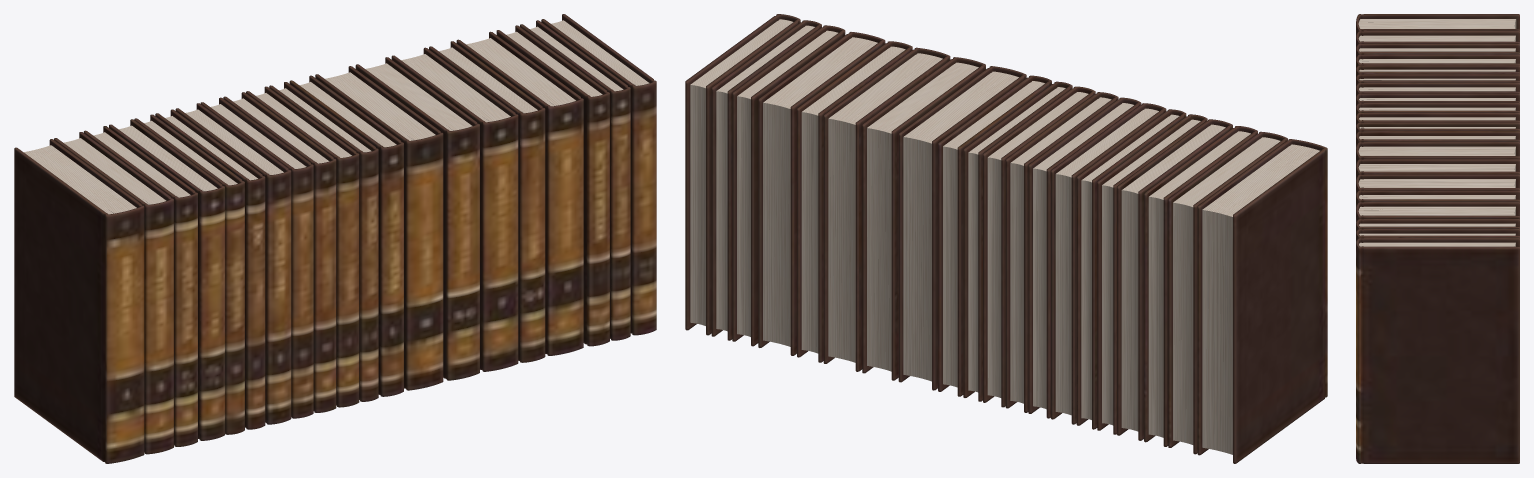
File: book_encyclopedia_set_01_lite.gltf
The picture shows the model from 3 angles, left to right: view 1: azimuth 30°, elevation 25°; view 2: azimuth 150°, elevation 25°; view 3: azimuth 270°, elevation 25°; orthographic projection. The views are drawn at different scales.
Parts seen in each view (by area): view 1: book_encyclopedia_set_01_book01, book_encyclopedia_set_01_book13, book_encyclopedia_set_01_book15, book_encyclopedia_set_01_book17, book_encyclopedia_set_01_book14, book_encyclopedia_set_01_book02, book_encyclopedia_set_01_book16, book_encyclopedia_set_01_book04, book_encyclopedia_set_01_book18, book_encyclopedia_set_01_book20, book_encyclopedia_set_01_book07, book_encyclopedia_set_01_book12 (+8 smaller); view 2: book_encyclopedia_set_01_book01, book_encyclopedia_set_01_book13, book_encyclopedia_set_01_book15, book_encyclopedia_set_01_book17, book_encyclopedia_set_01_book14, book_encyclopedia_set_01_book02, book_encyclopedia_set_01_book04, book_encyclopedia_set_01_book16, book_encyclopedia_set_01_book18, book_encyclopedia_set_01_book20, book_encyclopedia_set_01_book07, book_encyclopedia_set_01_book12 (+8 smaller); view 3: book_encyclopedia_set_01_book20, book_encyclopedia_set_01_book13, book_encyclopedia_set_01_book01, book_encyclopedia_set_01_book17, book_encyclopedia_set_01_book15, book_encyclopedia_set_01_book14, book_encyclopedia_set_01_book02, book_encyclopedia_set_01_book16, book_encyclopedia_set_01_book03, book_encyclopedia_set_01_book12, book_encyclopedia_set_01_book07, book_encyclopedia_set_01_book04 (+8 smaller).
Part boxes in pixels (left/top/right/bottom): book_encyclopedia_set_01_book01: left=14, top=139, right=144, bottom=463; book_encyclopedia_set_01_book13: left=315, top=66, right=443, bottom=390; book_encyclopedia_set_01_book15: left=391, top=47, right=518, bottom=371; book_encyclopedia_set_01_book17: left=456, top=31, right=583, bottom=355; book_encyclopedia_set_01_book14: left=355, top=57, right=479, bottom=380; book_encyclopedia_set_01_book02: left=54, top=132, right=173, bottom=454; book_encyclopedia_set_01_book16: left=429, top=41, right=545, bottom=362; book_encyclopedia_set_01_book04: left=109, top=119, right=224, bottom=440; book_encyclopedia_set_01_book18: left=496, top=25, right=609, bottom=346; book_encyclopedia_set_01_book20: left=541, top=14, right=656, bottom=335; book_encyclopedia_set_01_book07: left=175, top=103, right=291, bottom=424; book_encyclopedia_set_01_book12: left=289, top=75, right=403, bottom=396; book_encyclopedia_set_01_book01: left=1197, top=139, right=1327, bottom=463; book_encyclopedia_set_01_book13: left=898, top=66, right=1026, bottom=390; book_encyclopedia_set_01_book15: left=823, top=47, right=950, bottom=371; book_encyclopedia_set_01_book17: left=758, top=32, right=885, bottom=355; book_encyclopedia_set_01_book14: left=862, top=57, right=985, bottom=380; book_encyclopedia_set_01_book02: left=1168, top=131, right=1287, bottom=454; book_encyclopedia_set_01_book04: left=1117, top=119, right=1232, bottom=440; book_encyclopedia_set_01_book16: left=797, top=41, right=912, bottom=362; book_encyclopedia_set_01_book18: left=732, top=25, right=845, bottom=346; book_encyclopedia_set_01_book20: left=685, top=14, right=800, bottom=335; book_encyclopedia_set_01_book07: left=1051, top=103, right=1166, bottom=424; book_encyclopedia_set_01_book12: left=938, top=75, right=1051, bottom=396; book_encyclopedia_set_01_book20: left=1356, top=238, right=1519, bottom=463; book_encyclopedia_set_01_book13: left=1356, top=142, right=1519, bottom=164; book_encyclopedia_set_01_book01: left=1356, top=14, right=1519, bottom=35; book_encyclopedia_set_01_book17: left=1356, top=202, right=1519, bottom=222; book_encyclopedia_set_01_book15: left=1356, top=174, right=1519, bottom=194; book_encyclopedia_set_01_book14: left=1356, top=159, right=1519, bottom=180; book_encyclopedia_set_01_book02: left=1356, top=30, right=1519, bottom=47; book_encyclopedia_set_01_book16: left=1356, top=190, right=1519, bottom=208; book_encyclopedia_set_01_book03: left=1356, top=43, right=1519, bottom=58; book_encyclopedia_set_01_book12: left=1356, top=131, right=1519, bottom=148; book_encyclopedia_set_01_book07: left=1356, top=82, right=1519, bottom=96; book_encyclopedia_set_01_book04: left=1356, top=54, right=1519, bottom=68.
Size of the model in its own units: 0.5513 by 0.2374 by 0.1631.
2 materials, 2 textured.
